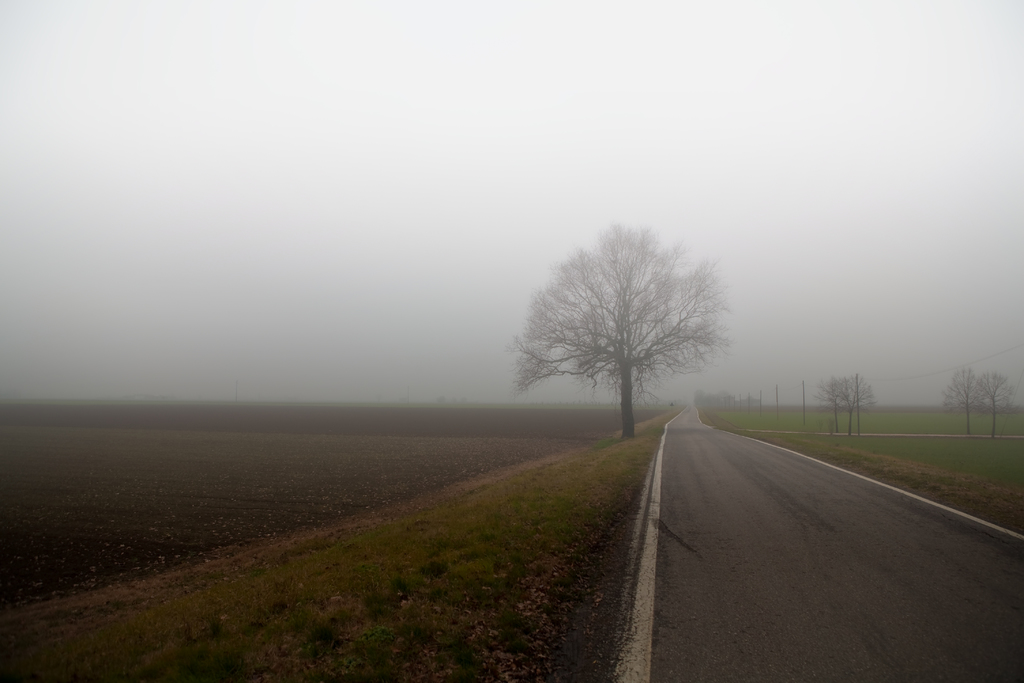Tree: (505, 219, 732, 439), (940, 367, 989, 436), (976, 372, 1018, 437), (810, 375, 855, 434), (841, 373, 880, 433), (693, 390, 736, 411)
